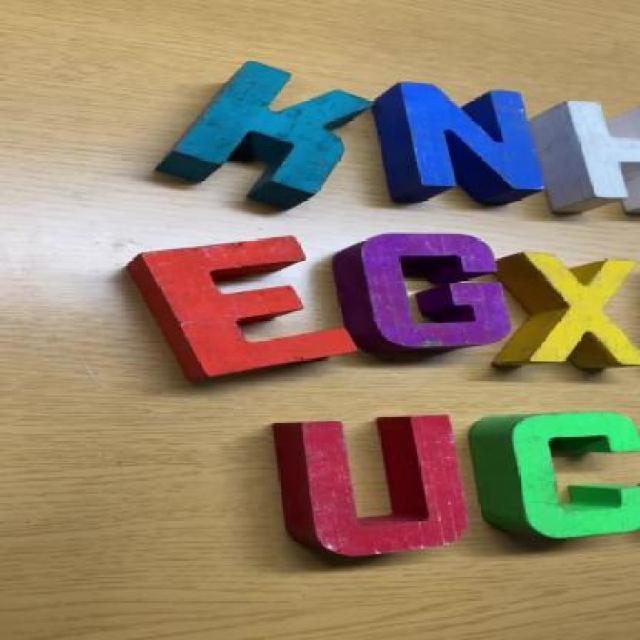C: (486, 407, 640, 545)
E: (144, 234, 362, 381)
G: (330, 230, 502, 362)
K: (189, 62, 369, 220)
N: (361, 88, 545, 206)
U: (262, 414, 461, 564)
X: (496, 258, 635, 374)
